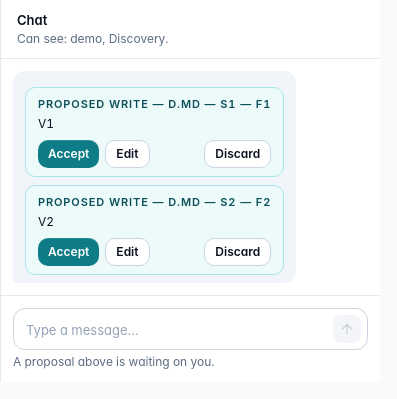
Scenario: ChatPanel — item 3: multiple proposals/questions in one message each render and resolve independently › renders two proposal cards from the same message, and accepting one leaves the other pending
Click the button "Accept" below "V1".
click(69, 154)  # box 38,140 -> 99,168
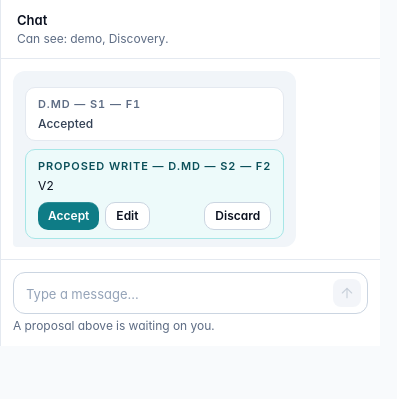
expect the number of buttons "Accept" is 1: met, box 38,202 -> 99,230
